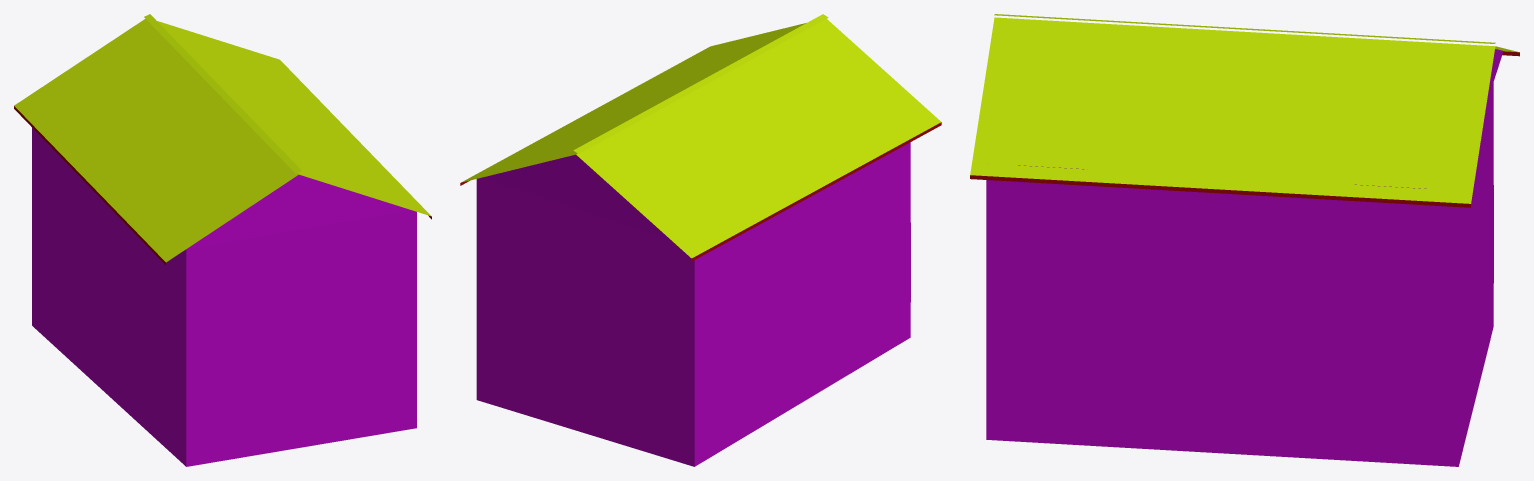
The model's file is bgj_291.glb.
3 renders of one model, left to right at view 1: azimuth 30°, elevation 25°; view 2: azimuth 150°, elevation 25°; view 3: azimuth 270°, elevation 25°, orthographic. The views are drawn at different scales.
Visible parts, largest first — view 1: bgj_291; view 2: bgj_291; view 3: bgj_291.
Part boxes in pixels (x1,y1,x2,y2): bgj_291: (14, 14, 431, 466); bgj_291: (460, 14, 941, 466); bgj_291: (970, 14, 1519, 466).
Size of the model in its own units: 11.81 by 10.86 by 15.2.
